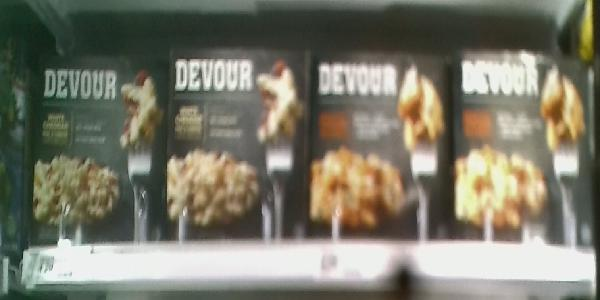pizza1: (171, 48, 309, 250), (458, 52, 584, 245), (316, 50, 444, 239), (36, 57, 163, 247)
